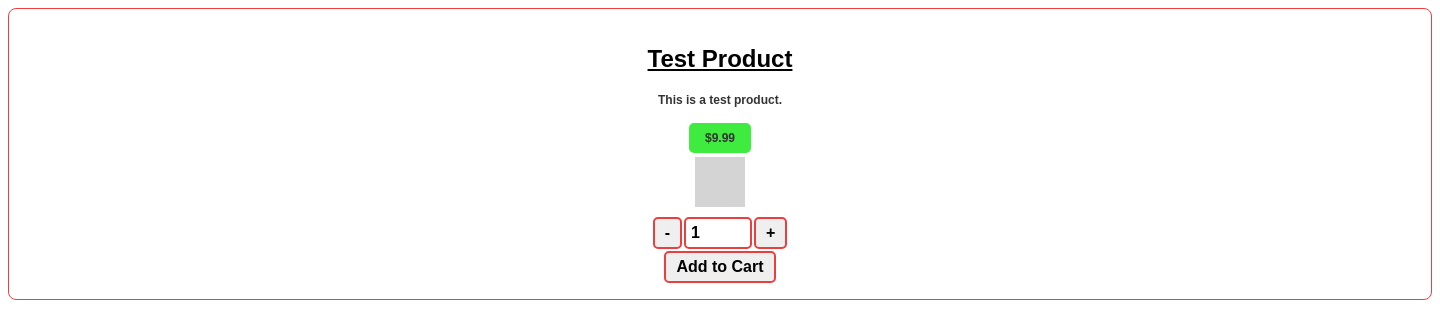
Card › handles manual and incremenent/decrement input correctly
# Set quantity to 5 manually
Step 1. Replace the text in the number field with "5" → (718, 233), box top-left (684, 217), bottom-right (752, 249)
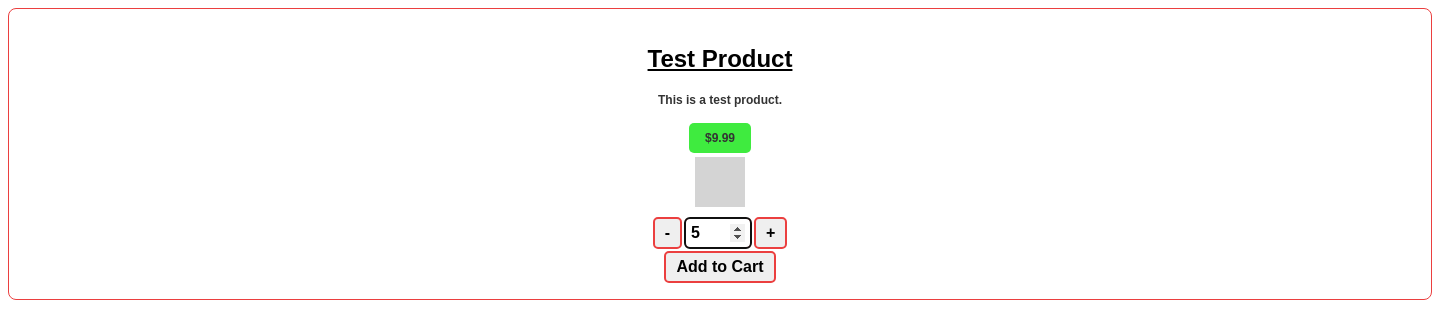
# Increment should now set it to 6
Step 2. Click the button "+" → click(771, 233), box top-left (754, 217), bottom-right (787, 249)
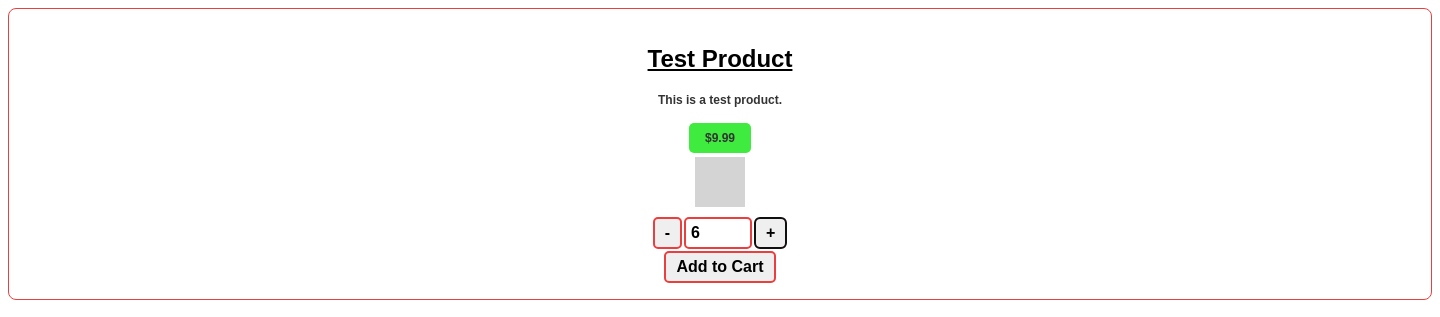
Check: the number field holds "6", box top-left (684, 217), bottom-right (752, 249)
# Decrement should now set it to 5
Step 3. Click the button "-" → click(667, 233), box top-left (653, 217), bottom-right (682, 249)
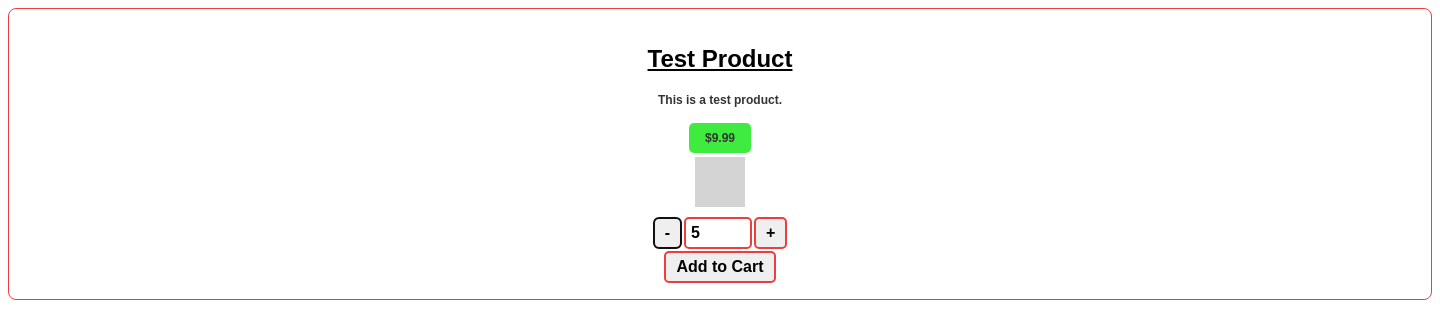
# Set quantity to 10 manually
Step 4. Replace the text in the number field with "10" → (718, 233), box top-left (684, 217), bottom-right (752, 249)
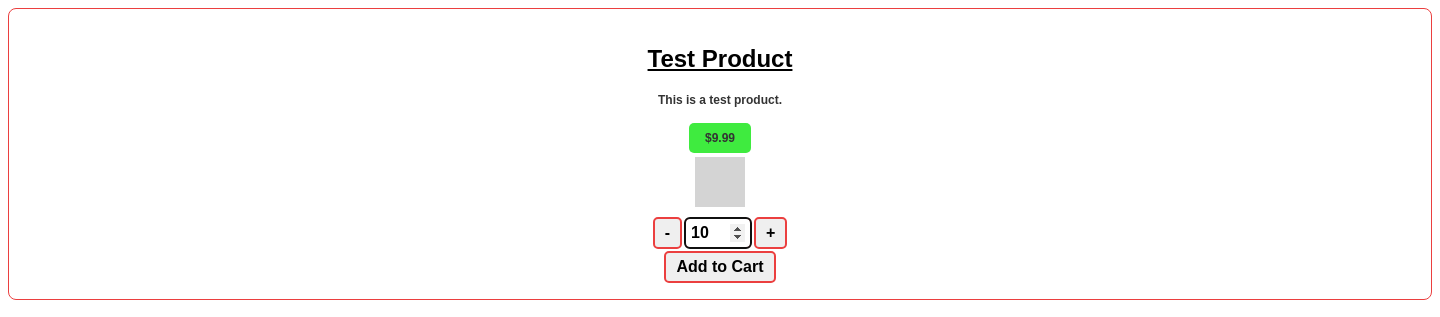
# Increment should not change it since it's already at max
Step 5. Click the button "+" → click(771, 233), box top-left (754, 217), bottom-right (787, 249)
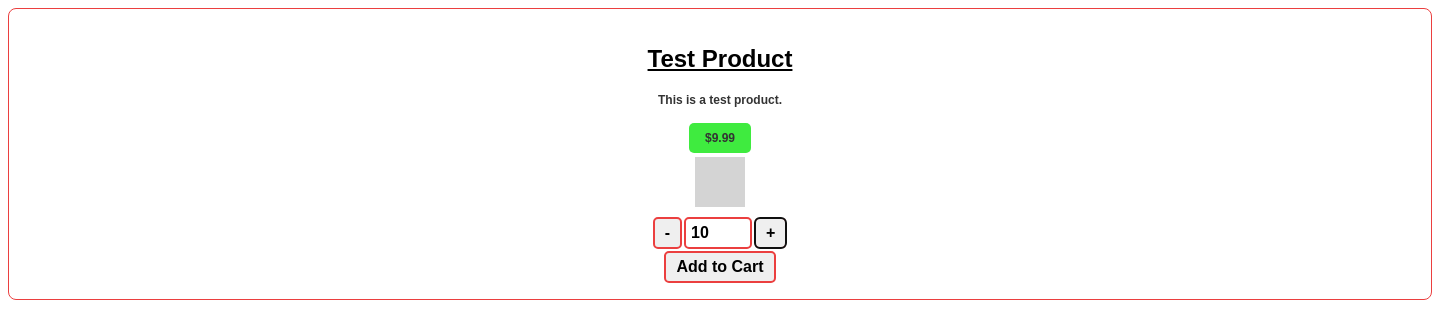
# Decrement should now set it to 9
Step 6. Click the button "-" → click(667, 233), box top-left (653, 217), bottom-right (682, 249)
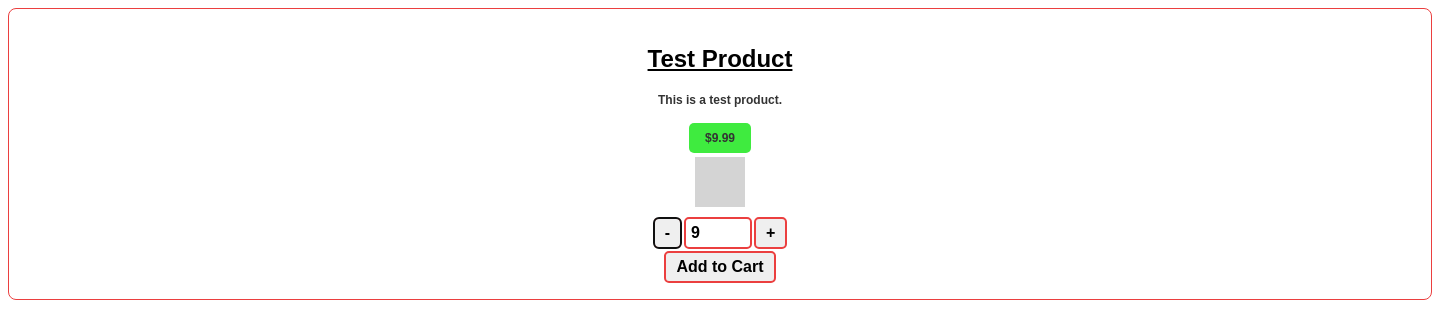
Check: the number field holds "9", box top-left (684, 217), bottom-right (752, 249)
